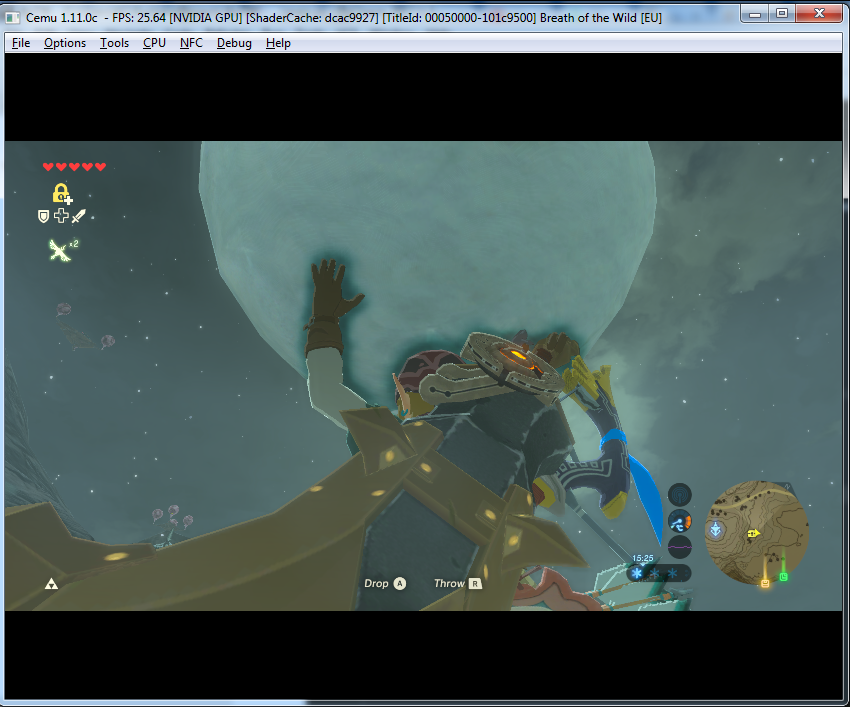link: (279, 260, 675, 611)
snowball: (196, 139, 667, 426)
